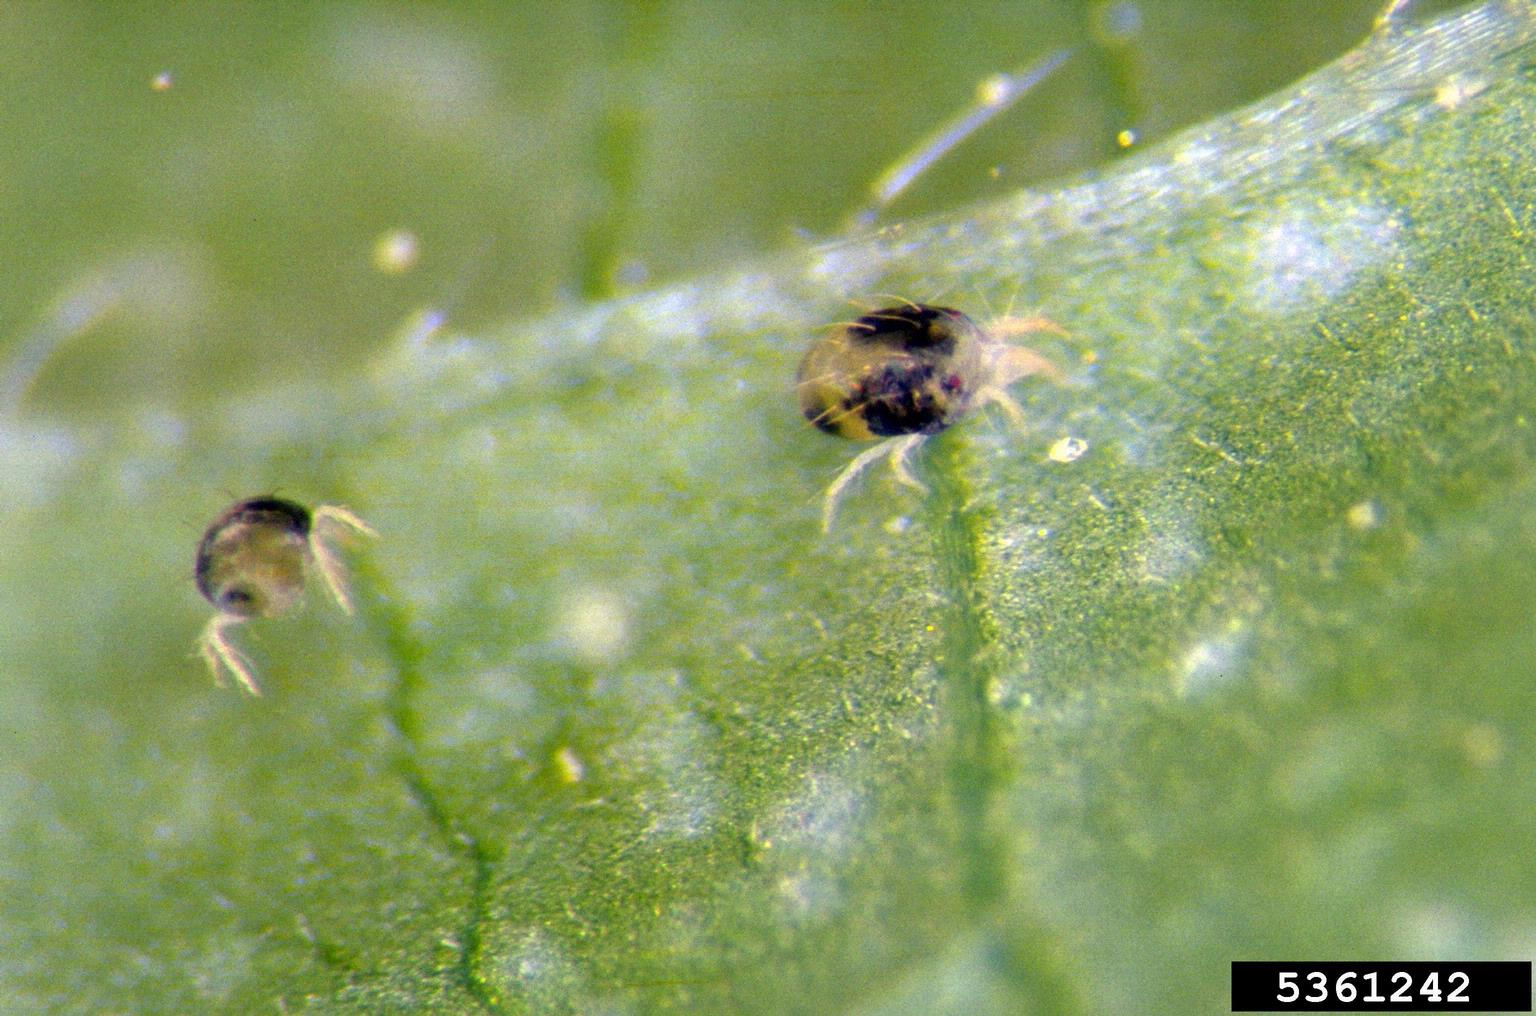Mites: (785, 258, 1151, 536), (126, 458, 426, 739)
